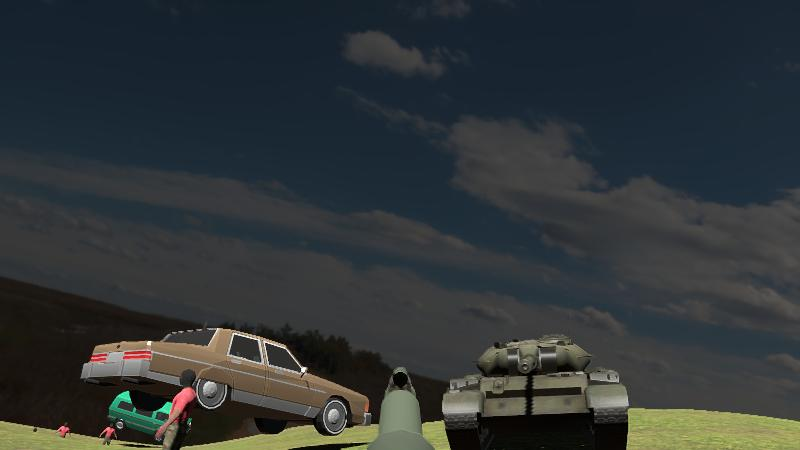Human: (155, 365, 205, 450), (155, 368, 204, 449)
Tank: (442, 331, 630, 450)
car: (80, 326, 371, 436)
